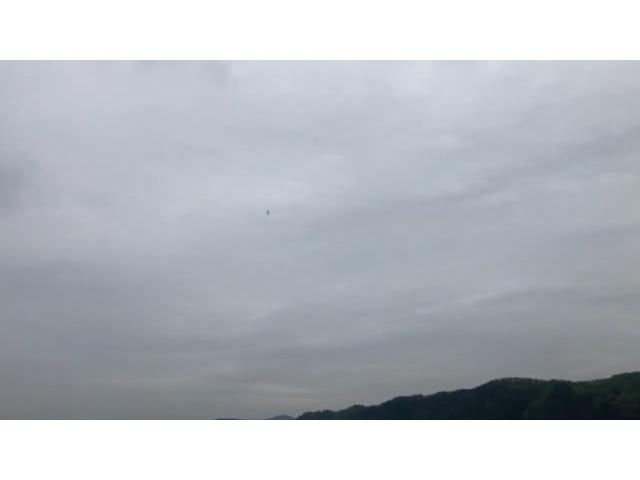Anti-Drone: (256, 202, 280, 221)
